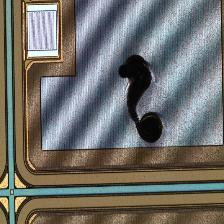PO CONTAMINATION: (115, 53, 169, 147)
